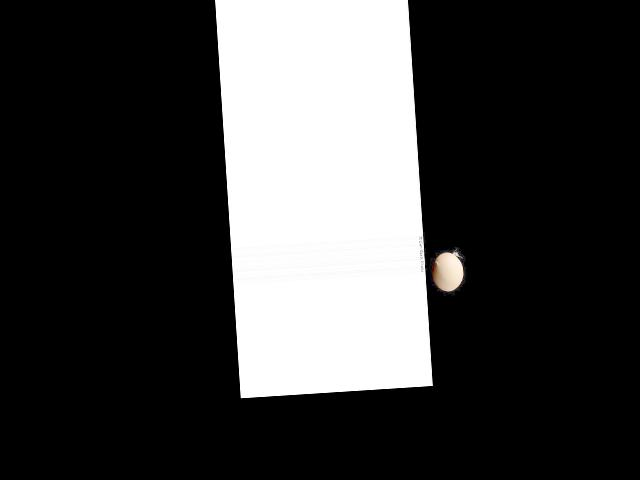egg: (430, 251, 464, 292)
